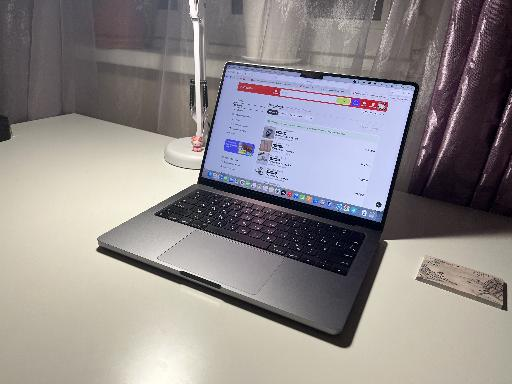aliexpress: (216, 72, 398, 193)
